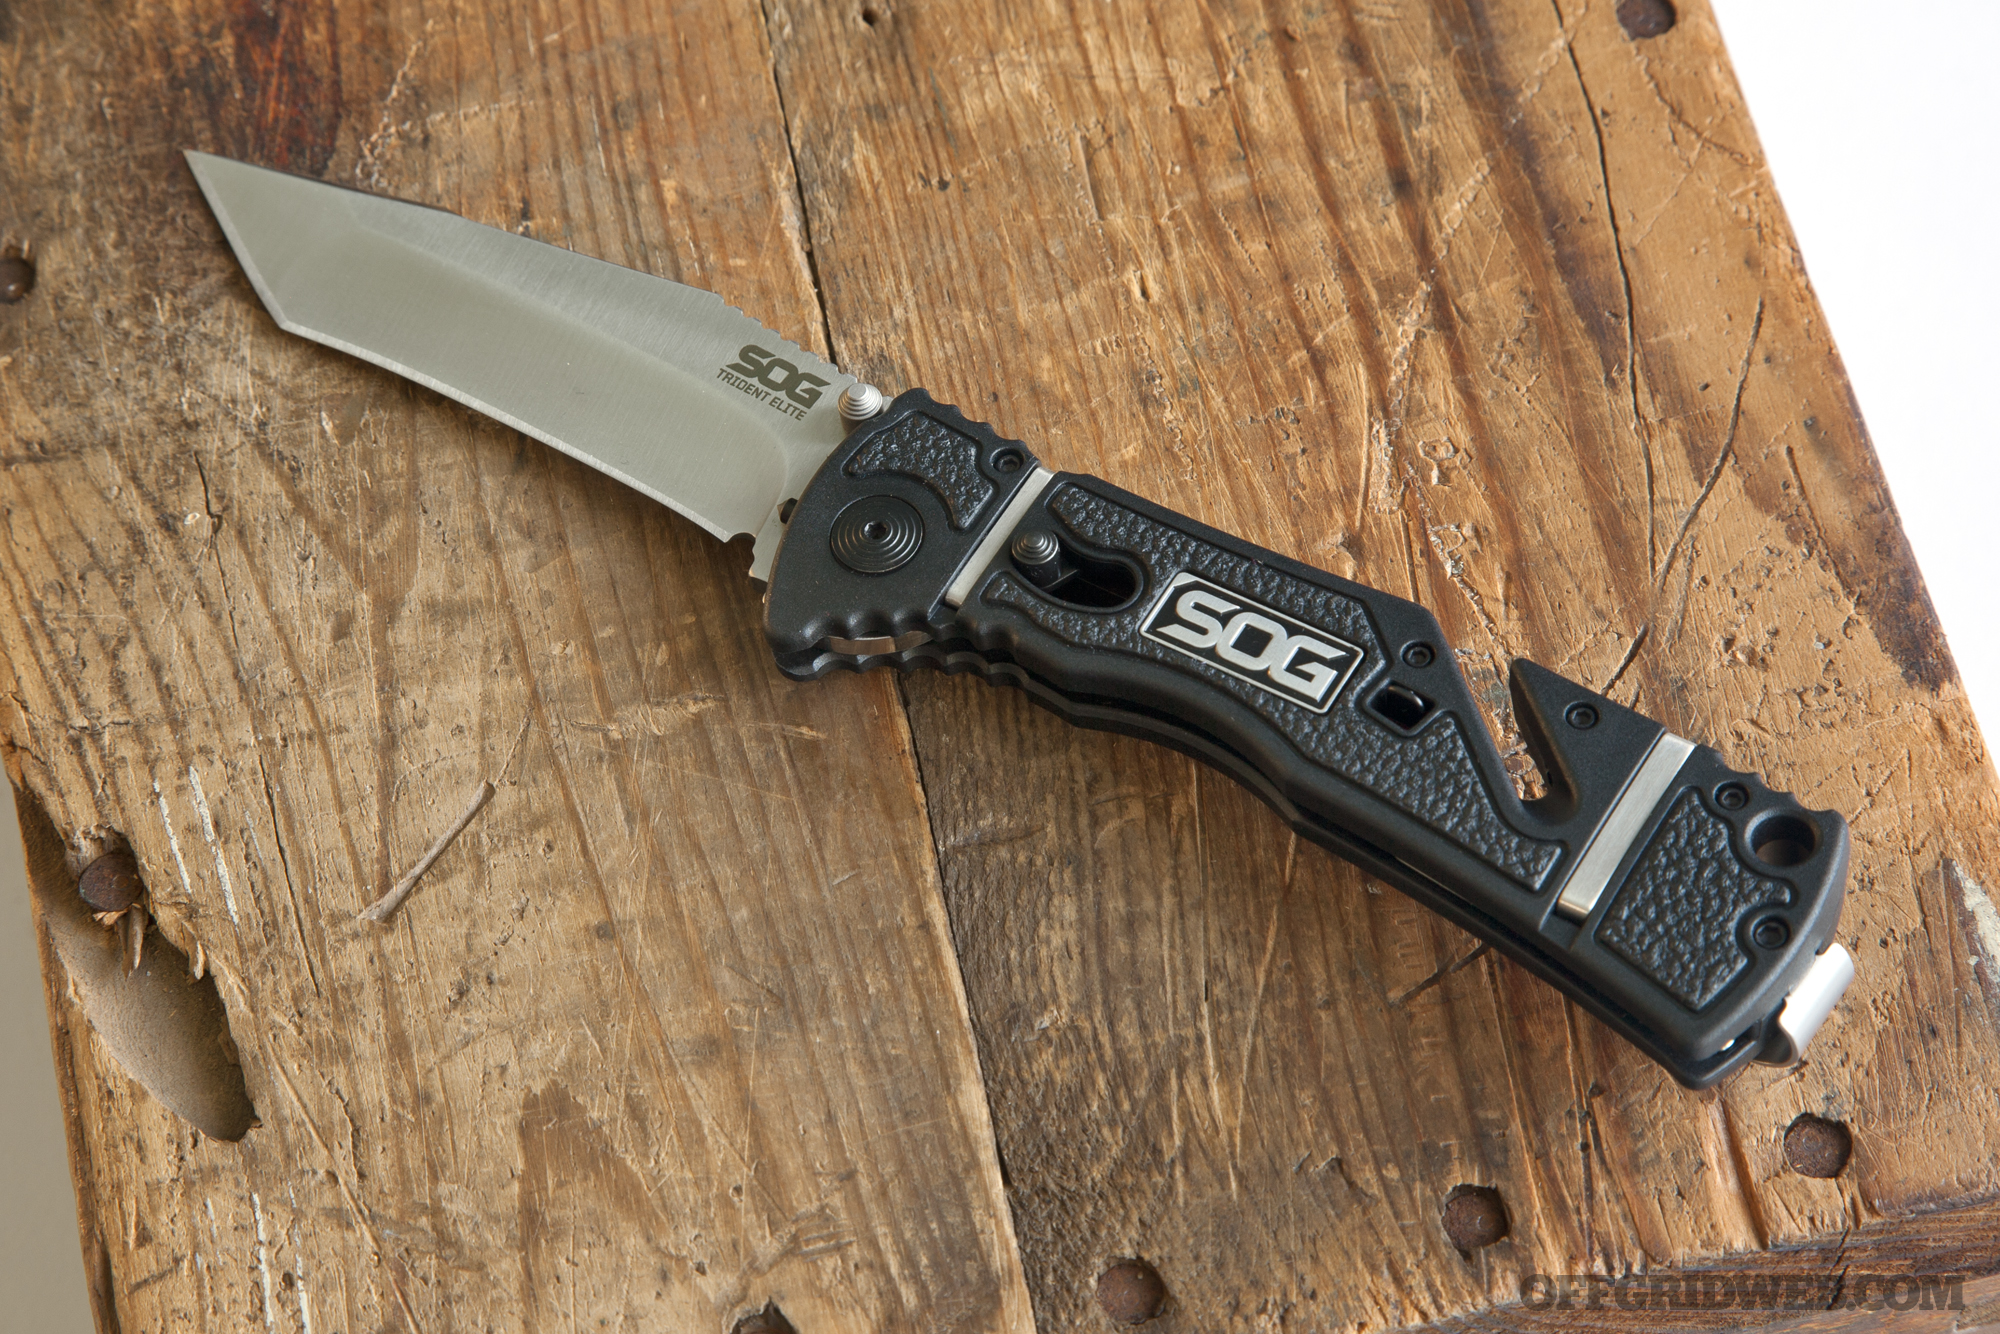knife: (159, 135, 975, 643)
